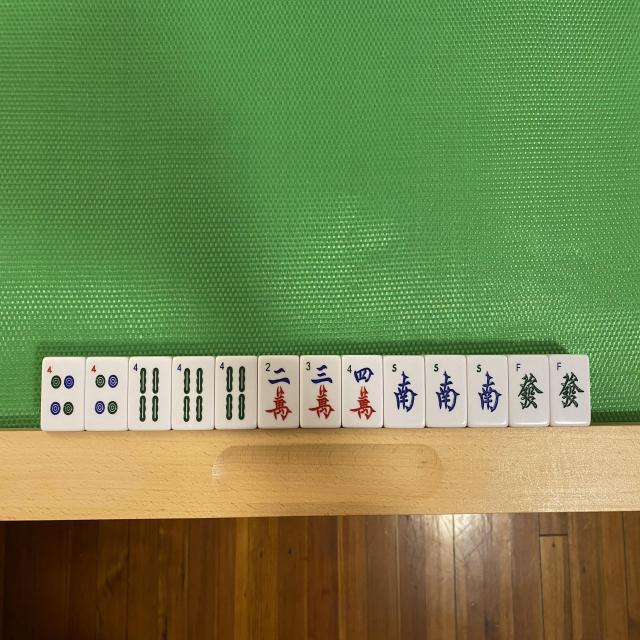hdg: (510, 358, 548, 424), (552, 357, 588, 423)
hws: (427, 356, 465, 427), (385, 358, 423, 427), (468, 358, 506, 424)
sb4: (216, 358, 256, 426), (130, 359, 169, 427), (172, 358, 210, 427)
sc2: (258, 358, 298, 425)
sc3: (301, 357, 340, 427)
sc4: (342, 357, 382, 427)
sd4: (44, 360, 82, 426), (88, 362, 125, 428)
